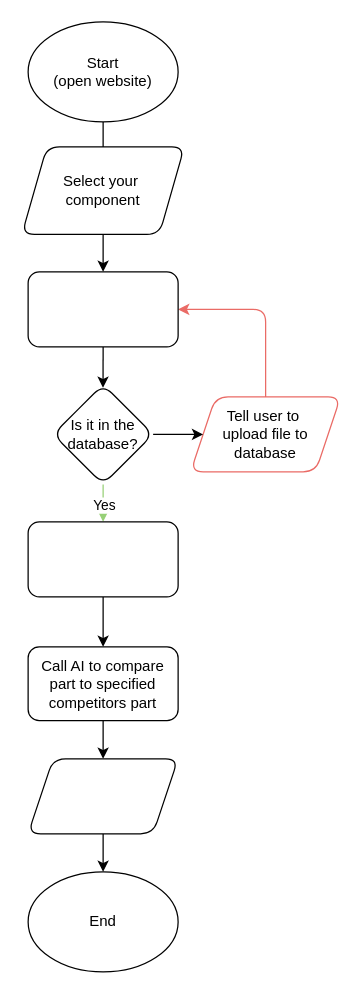
The diagram is 363 pixels wide and 994 high, and some of its shapes have lost their labels. The shapes that lost their labels are listed below. From the top down, each one's box as (x1, y1, x2, y2) in pixels, then its label:
(27, 271, 178, 347): Check to see if component is in database
(27, 521, 178, 597): Fetch the CSV file for the part
(27, 758, 178, 834): Output key variables and information
